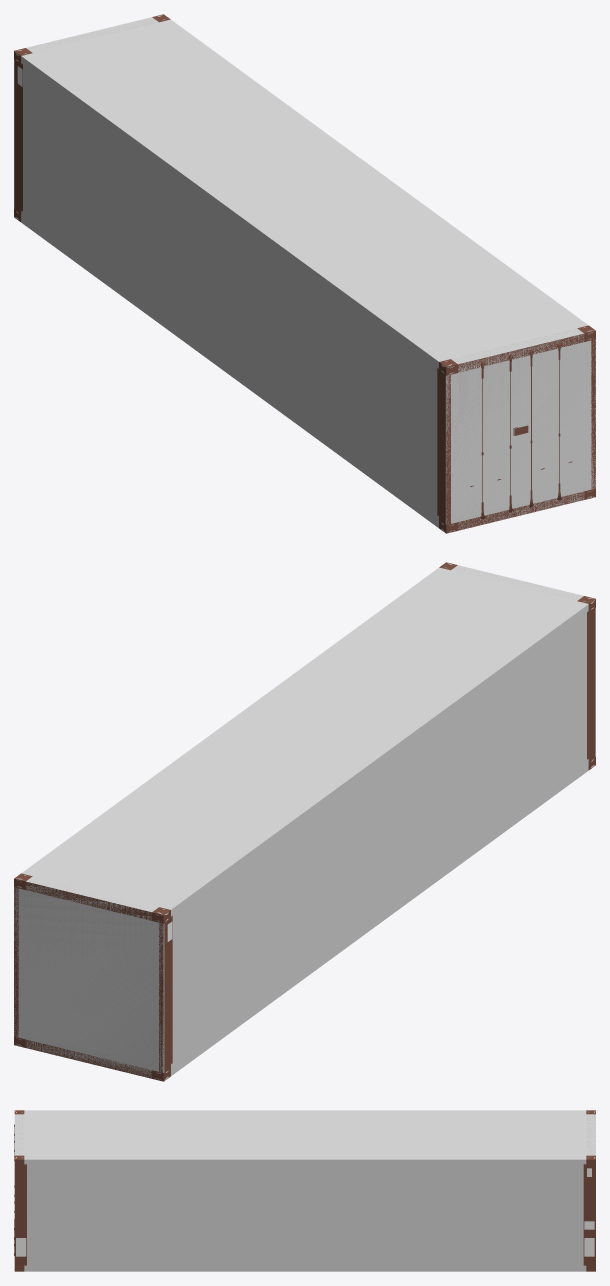
The model's file is containers_40_brown.dae.
The picture shows the model from 3 angles, top to bottom: view 1: azimuth 30°, elevation 25°; view 2: azimuth 150°, elevation 25°; view 3: azimuth 270°, elevation 25°; orthographic projection. The views are drawn at different scales.
Parts seen in each view (by area): view 1: containers_40_brown_a40, Colmesh_containers_40_brown-1, containers_40_brown_a1500, containers_40_brown_a150, containers_40_brown_a600; view 2: containers_40_brown_a40, Colmesh_containers_40_brown-1, containers_40_brown_a150, containers_40_brown_a1500, containers_40_brown_a600; view 3: containers_40_brown_a40, containers_40_brown_a1500, containers_40_brown_a600, Colmesh_containers_40_brown-1, containers_40_brown_a150.
Boxes of the visible parts, x1,y1,x2,y2 form: containers_40_brown_a40: (14, 15, 595, 532); Colmesh_containers_40_brown-1: (14, 15, 595, 532); containers_40_brown_a1500: (14, 14, 595, 533); containers_40_brown_a150: (446, 331, 595, 533); containers_40_brown_a600: (14, 16, 595, 533); containers_40_brown_a40: (14, 563, 595, 1080); Colmesh_containers_40_brown-1: (14, 563, 595, 1079); containers_40_brown_a150: (14, 879, 163, 1081); containers_40_brown_a1500: (14, 562, 595, 1081); containers_40_brown_a600: (14, 564, 595, 1080); containers_40_brown_a40: (14, 1110, 595, 1271); containers_40_brown_a1500: (14, 1110, 595, 1271); containers_40_brown_a600: (14, 1111, 595, 1271); Colmesh_containers_40_brown-1: (14, 1112, 595, 1155); containers_40_brown_a150: (14, 1159, 595, 1271).
Size of the model in its own units: 2.44 by 12.21 by 2.59.
